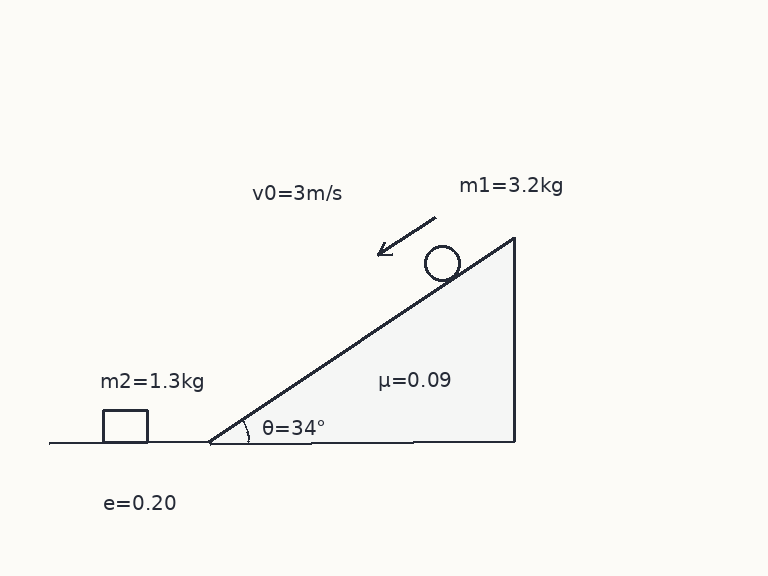ball: (422, 243, 462, 283)
block: (101, 408, 149, 444)
ramp: (207, 235, 515, 444)
